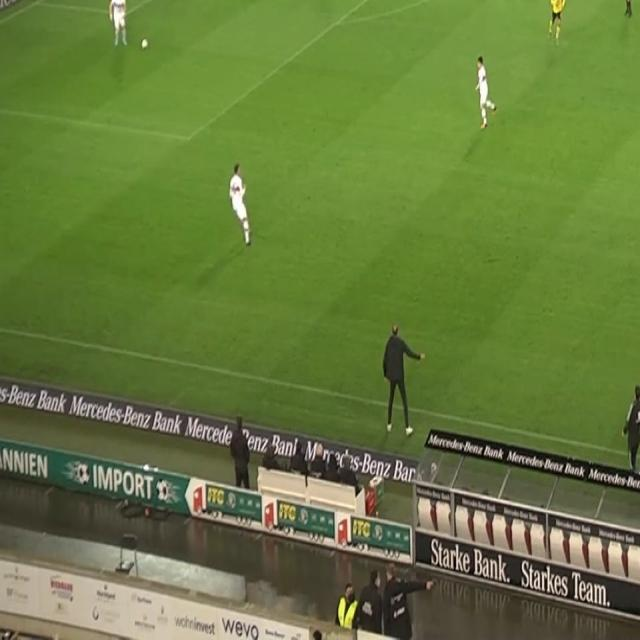ball: (140, 36, 148, 51)
